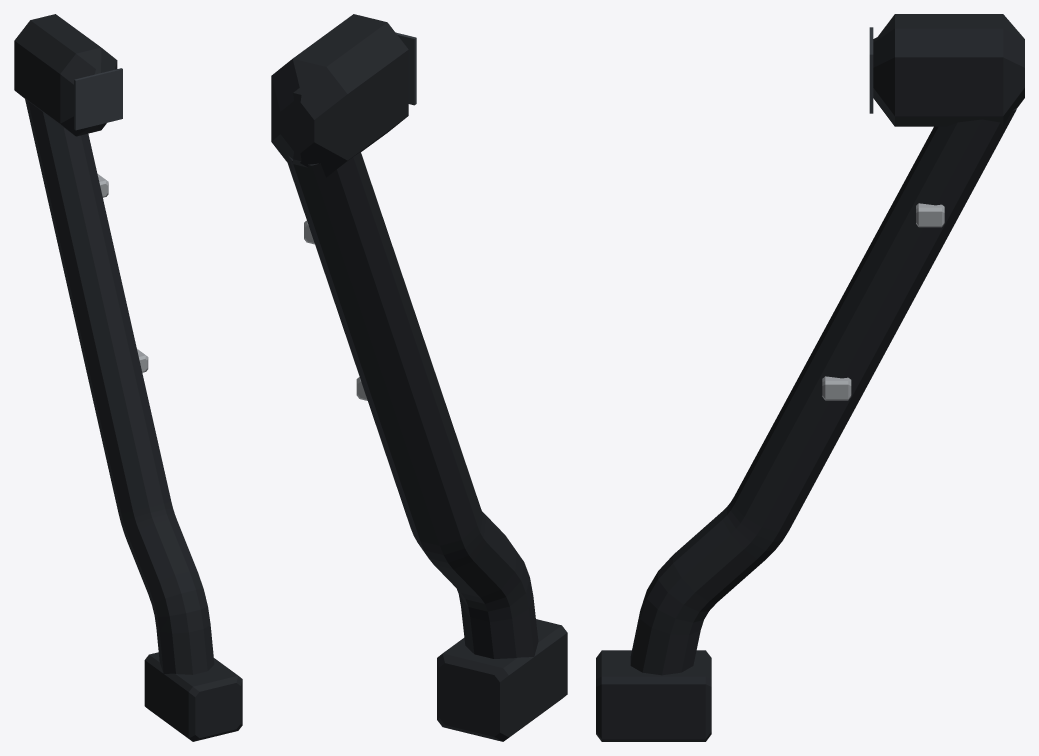
File: ridgeback_4x4_snorkel.glb
3 views of the same model, side by side, from view 1: azimuth 30°, elevation 25°; view 2: azimuth 150°, elevation 25°; view 3: azimuth 270°, elevation 25° (orthographic). The views are drawn at different scales.
Parts seen in each view (by area): view 1: model; view 2: model; view 3: model.
Boxes of the visible parts, box(x1,y1,x2,y2) form: model: box(14, 14, 242, 741); model: box(271, 14, 567, 741); model: box(596, 14, 1024, 741).
Size of the model in its own units: 0.111 by 1.08 by 0.5938.
2 materials, 1 textured.
